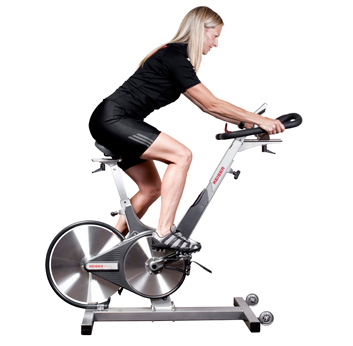gym_bike: (31, 106, 309, 330)
